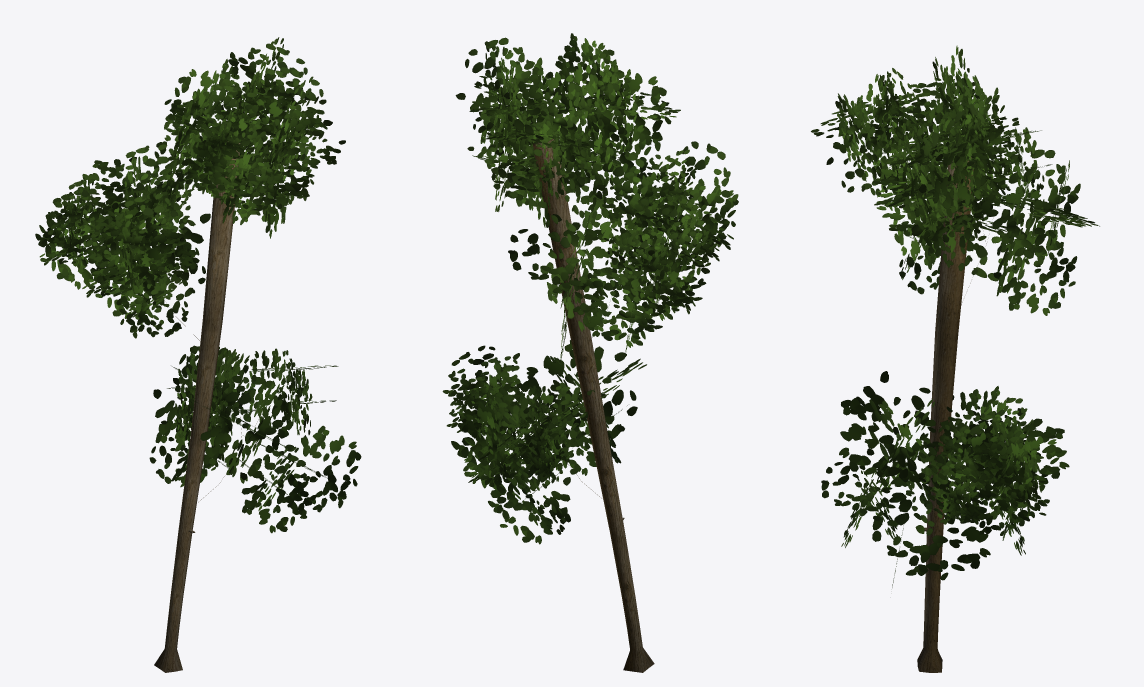
The model's file is env_tree_prairie_young_02.glb.
The picture shows the model from 3 angles, left to right: view 1: azimuth 30°, elevation 25°; view 2: azimuth 150°, elevation 25°; view 3: azimuth 270°, elevation 25°; orthographic projection. The views are drawn at different scales.
Visible parts, largest first — view 1: tree_prairie_young_02; view 2: tree_prairie_young_02; view 3: tree_prairie_young_02.
Boxes of the visible parts, x1,y1,x2,y2 form: tree_prairie_young_02: (35, 37, 361, 672); tree_prairie_young_02: (442, 33, 738, 672); tree_prairie_young_02: (811, 45, 1099, 672).
Size of the model in its own units: 2.41 by 4.38 by 2.02.
Materials: 2 (2 with a texture image).
